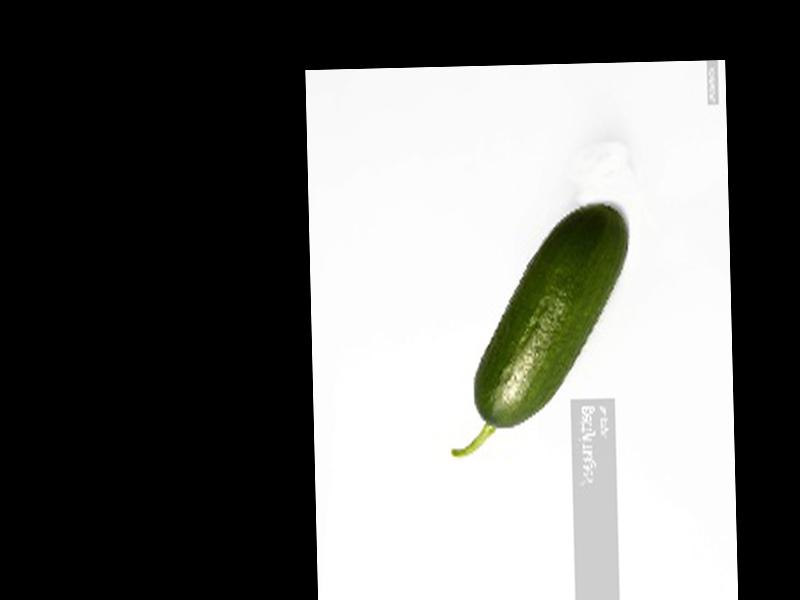Cucumber: (447, 205, 635, 461)
